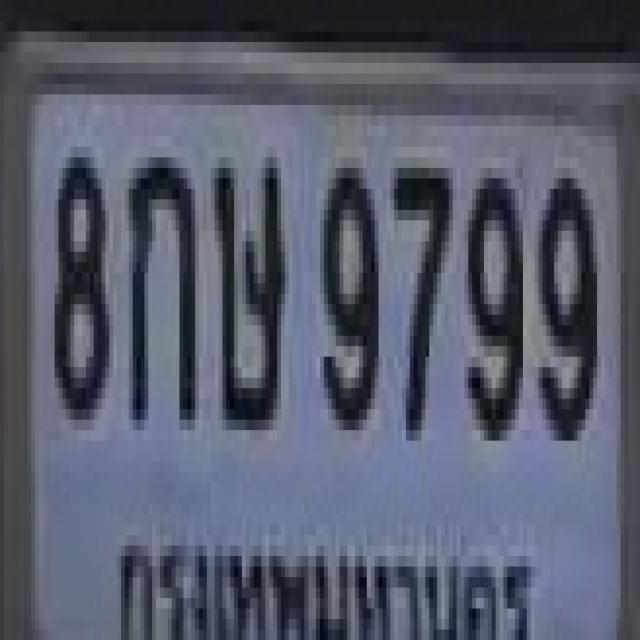-: (211, 147, 281, 420), (125, 147, 191, 420)
7: (390, 157, 449, 430)
8: (51, 147, 105, 409)
9: (535, 168, 593, 430), (320, 157, 375, 420), (464, 168, 519, 430)
